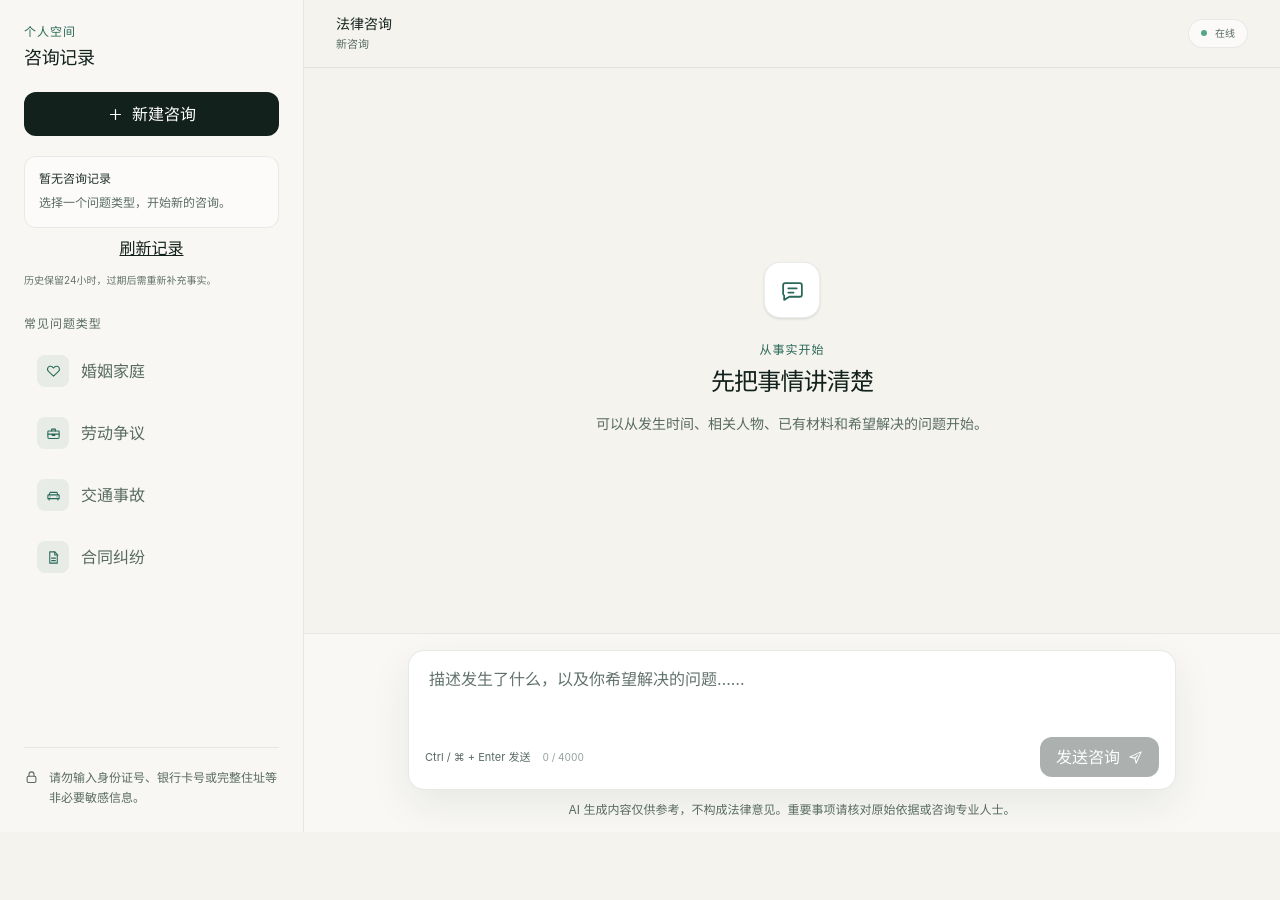
it: ChatView › archives the current consultation when starting a new one and can restore it
Type "公司拖欠工资，我应该准备什么材料？" into the text box with placeholder "描述发生了什么，以及你希望解决的问题……" at {"x": 792, "y": 695}, box x1=417 y1=659 x2=1167 y2=731
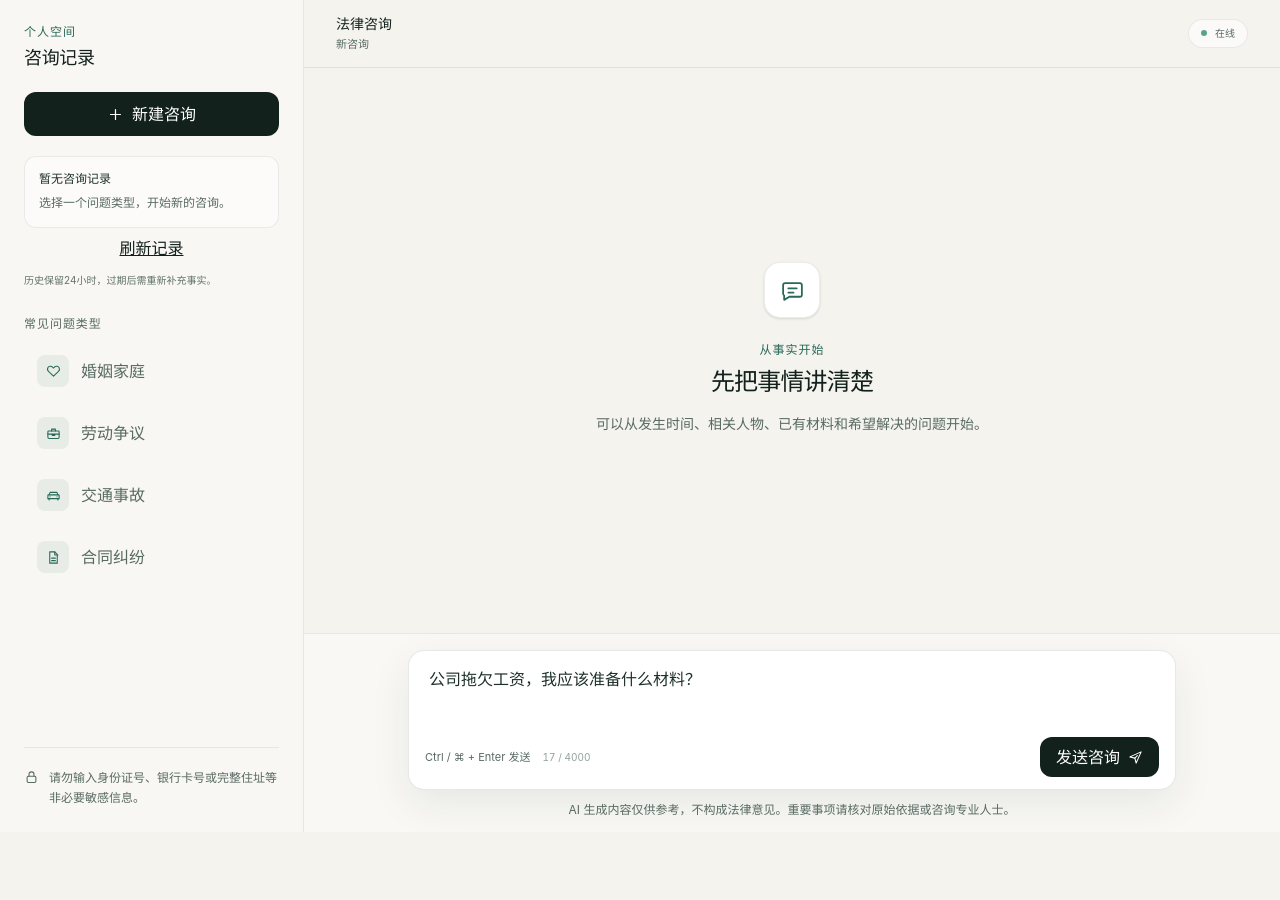
Submit the form, box x1=408 y1=650 x2=1176 y2=790
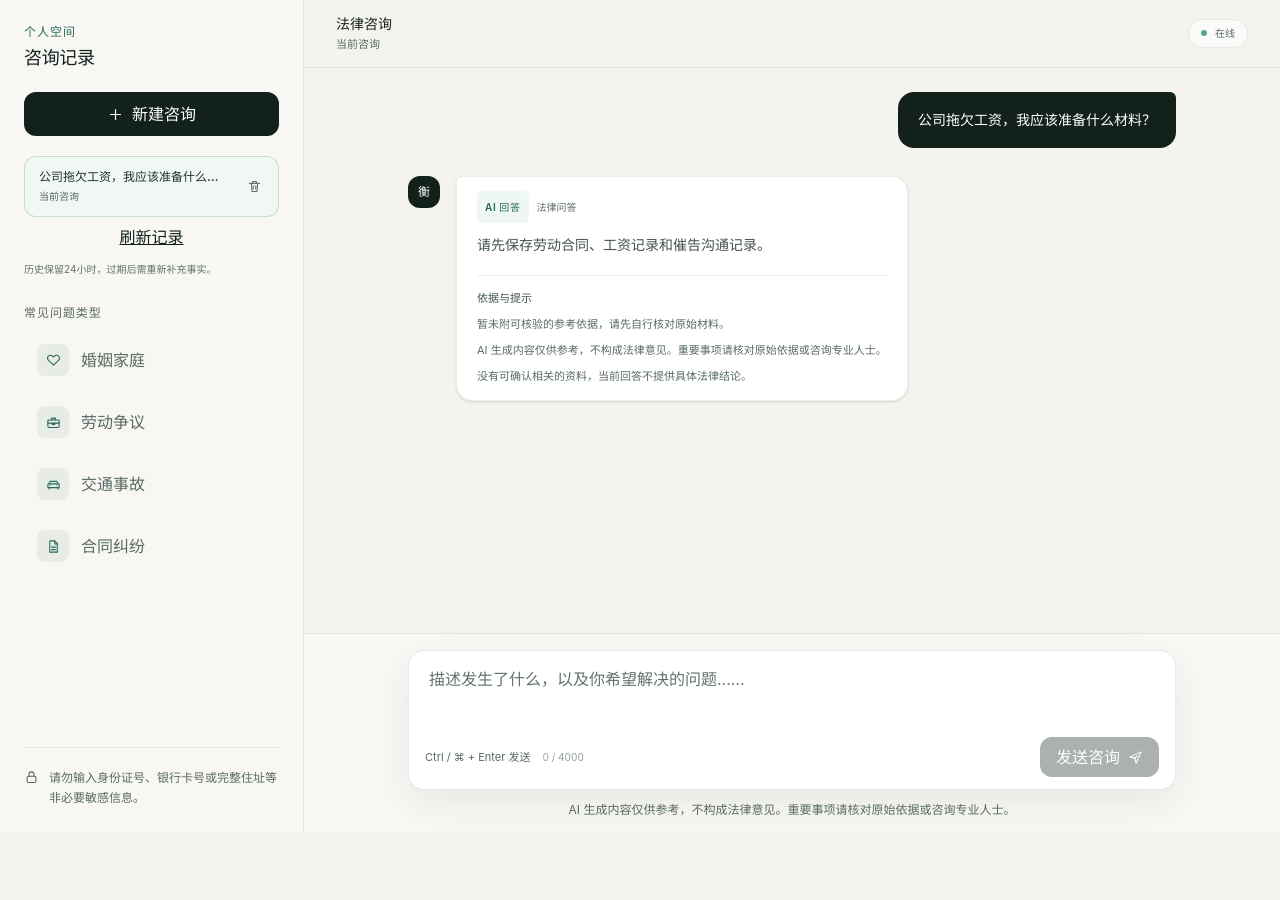
Click the button "新建咨询" at {"x": 152, "y": 114}, box x1=24 y1=92 x2=279 y2=136
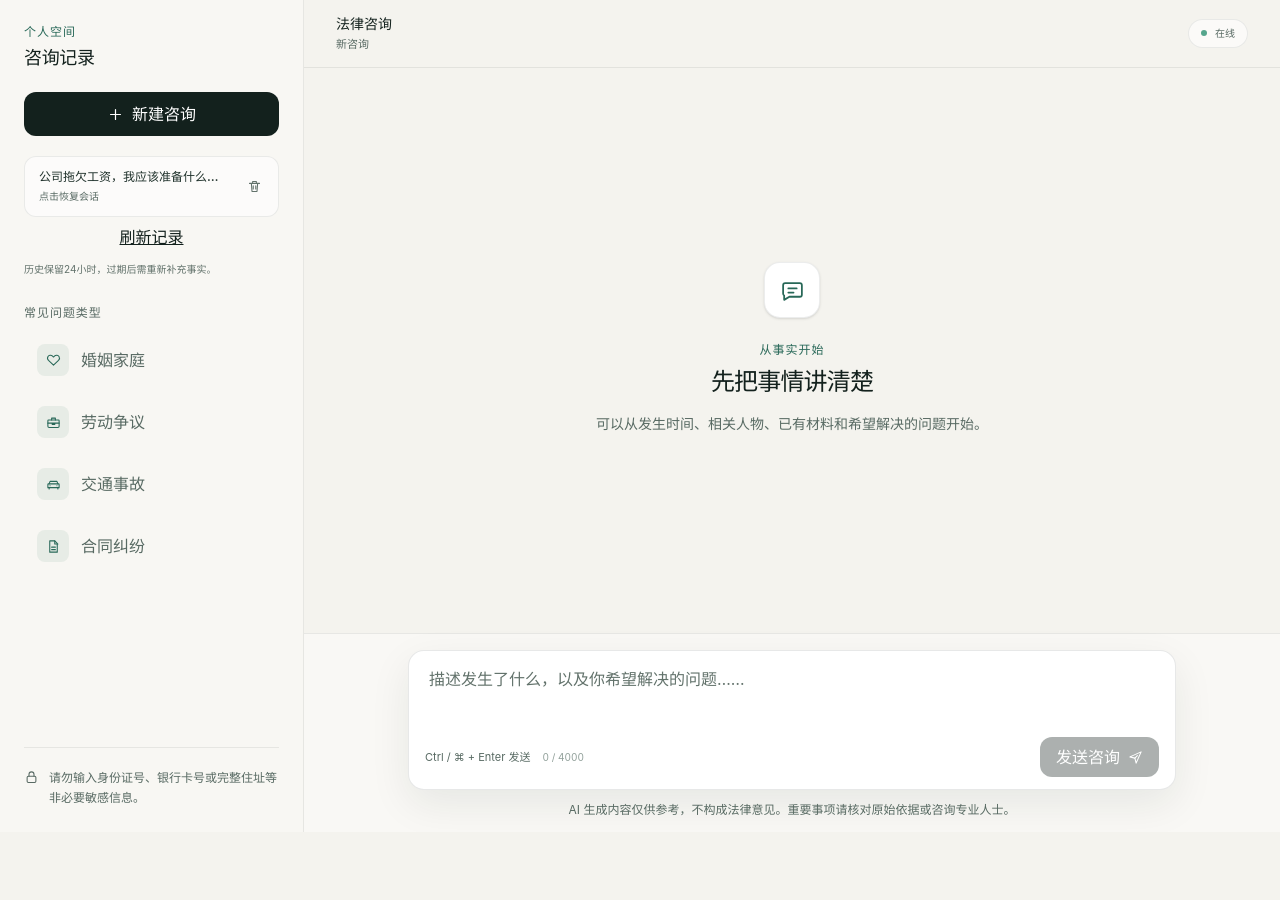
Check: the element with test id "conversation-history" shows "公司拖欠工资"
Click the button "公司拖欠工资，我应该准备什么材料？ 点击恢复会话" at {"x": 132, "y": 186}, box x1=25 y1=157 x2=238 y2=216
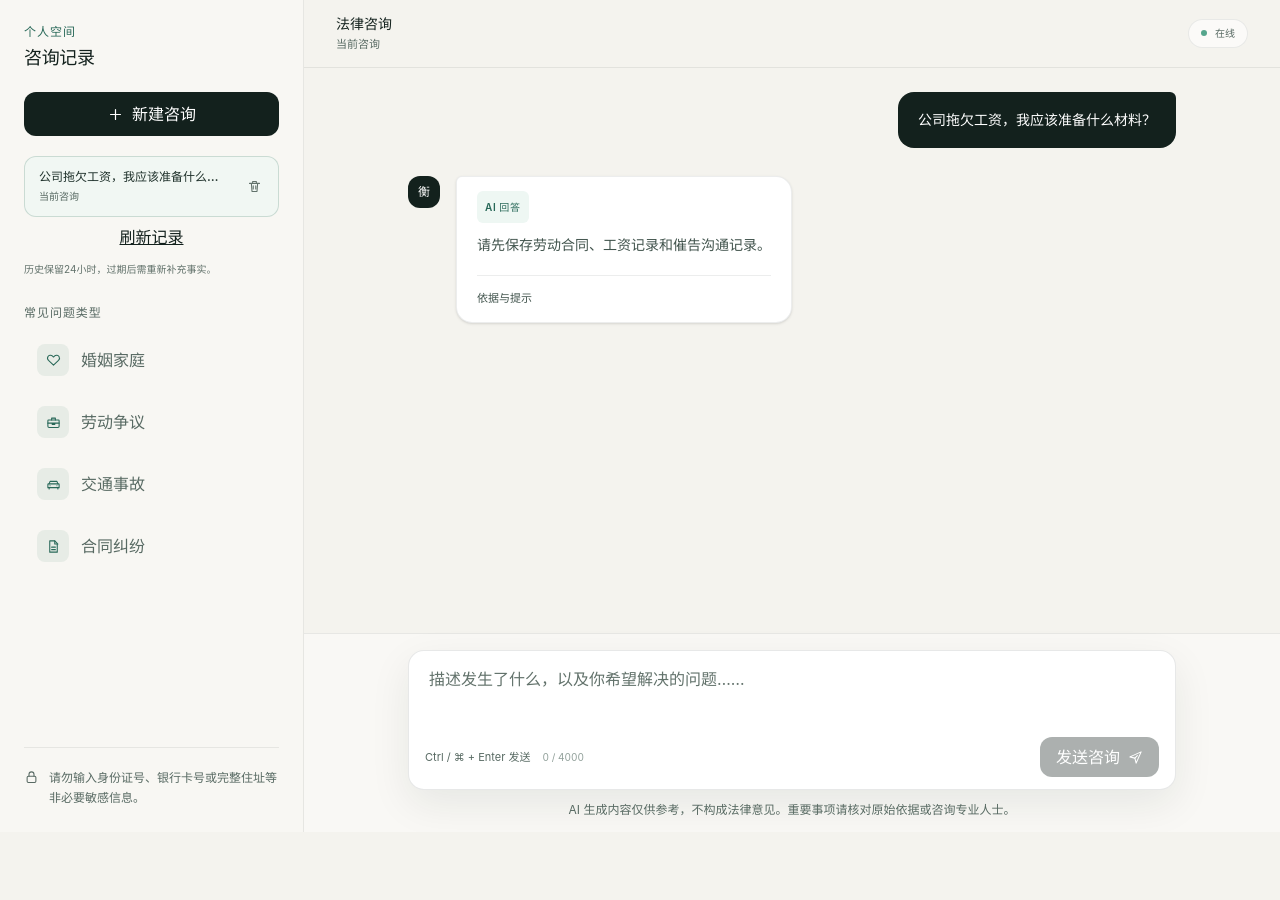
Check: the text "请先保存劳动合同、工资记录和催告沟通记录。" is shown, box x1=477 y1=230 x2=771 y2=258
